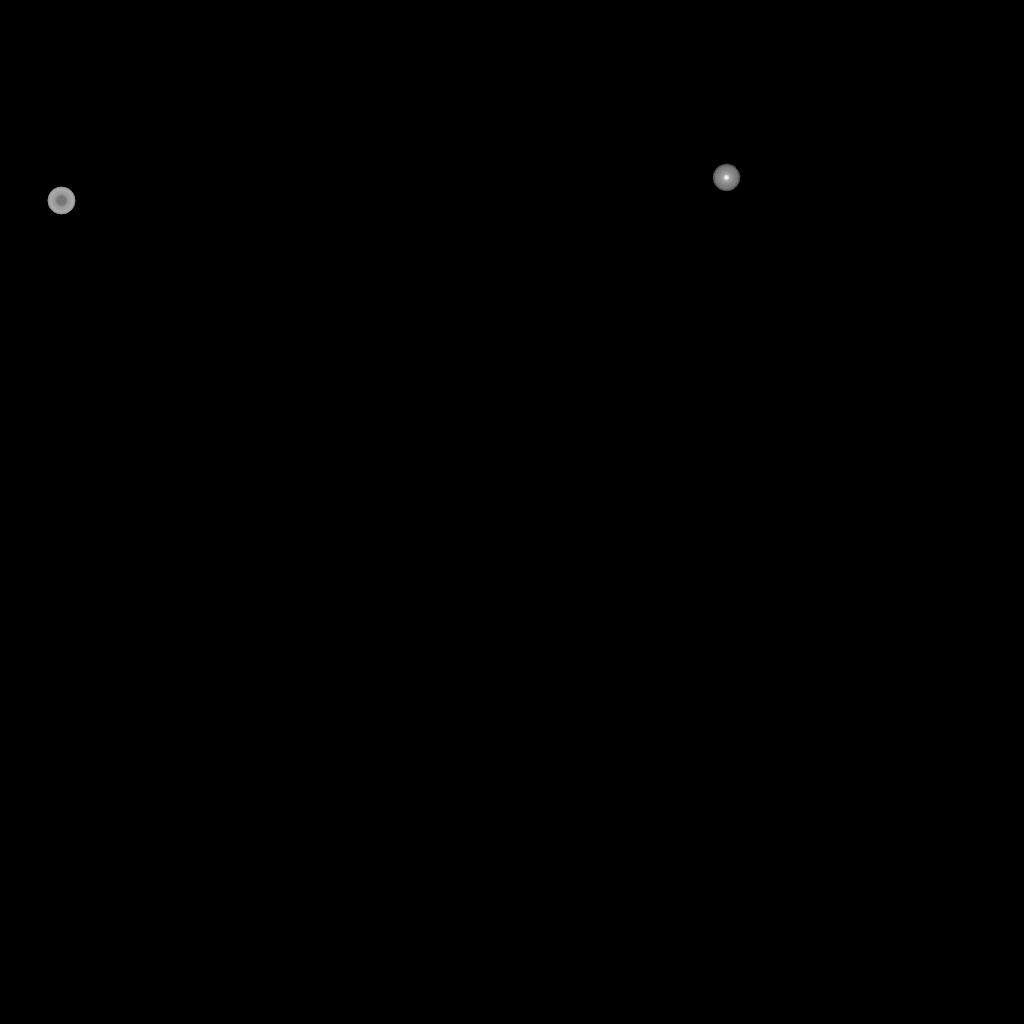depth:-10: (712, 164, 740, 192)
depth:-50: (47, 187, 75, 215)
